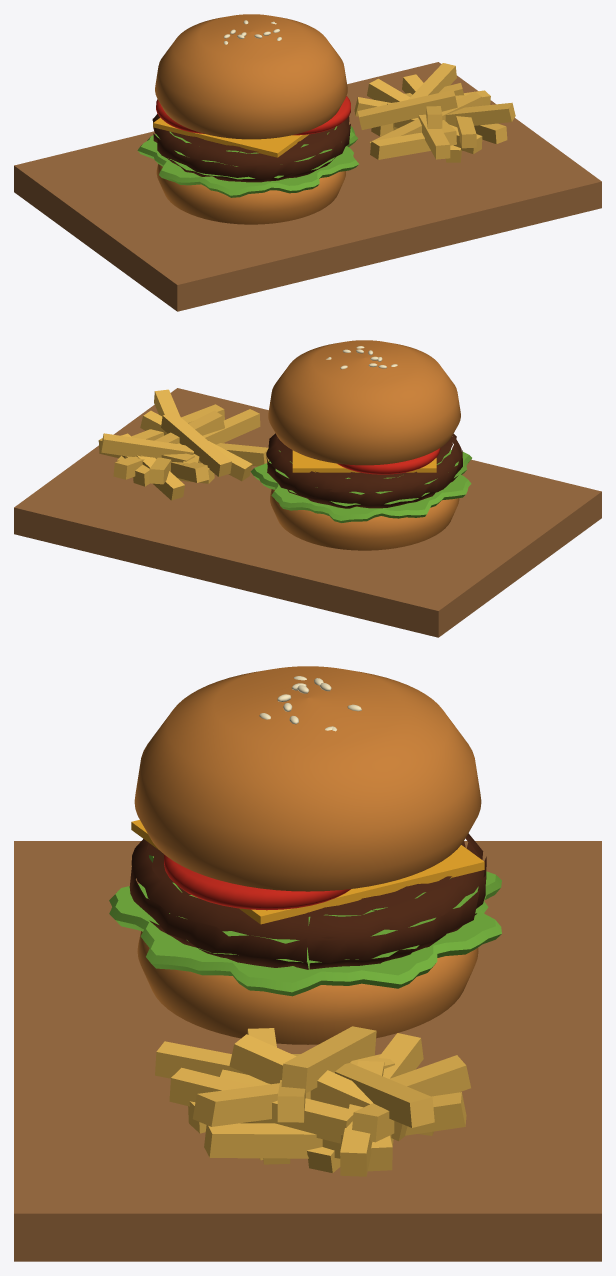
Rendered from burger_da_casa.glb.
3 views of the same model, one above another, from view 1: azimuth 30°, elevation 25°; view 2: azimuth 150°, elevation 25°; view 3: azimuth 270°, elevation 25° (orthographic). The views are drawn at different scales.
Visible parts, largest first — view 1: burger_da_casa; view 2: burger_da_casa; view 3: burger_da_casa.
Part boxes in pixels (x1,y1,x2,y2): burger_da_casa: (14,14,601,311); burger_da_casa: (14,340,601,637); burger_da_casa: (14,666,601,1261).
Bounding box in the file's own units: 0.3 × 0.1244 × 0.2.
